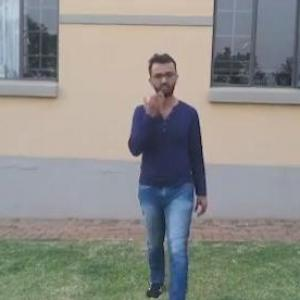follow: (124, 56, 194, 282)
